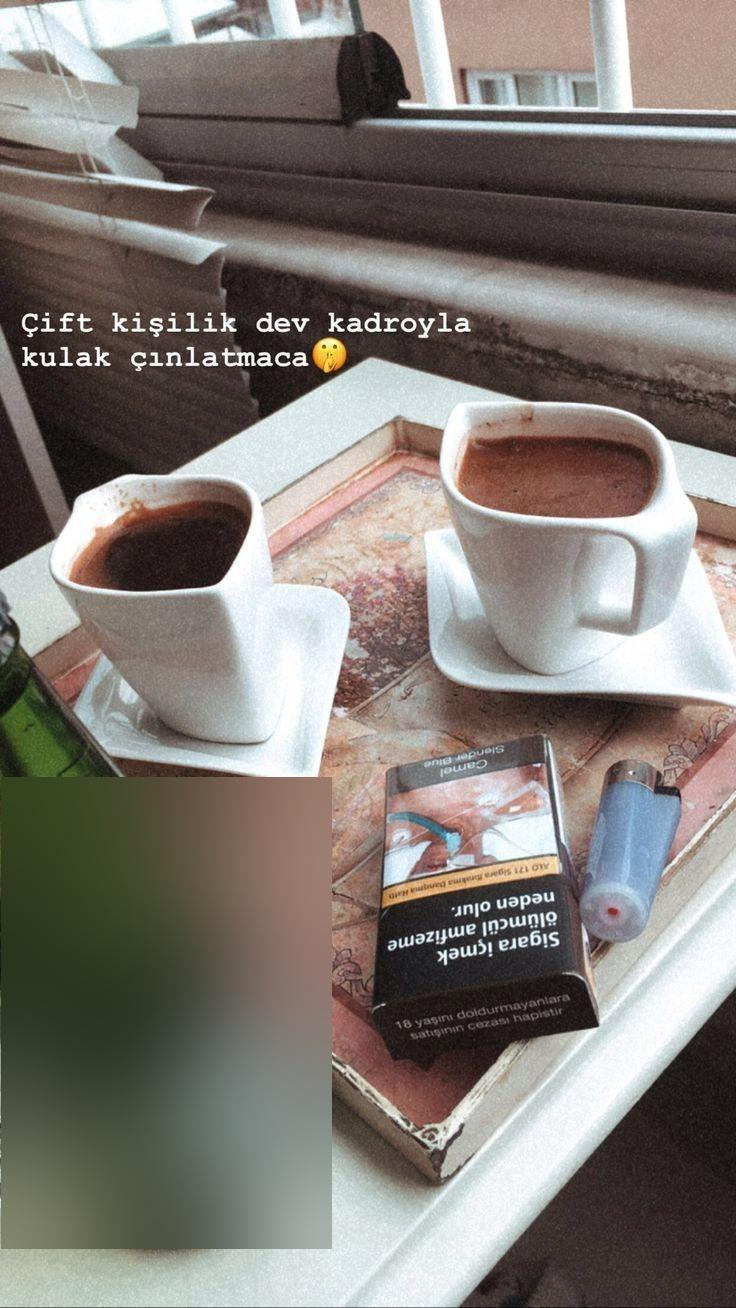cup-handle: (435, 398, 697, 673), (48, 471, 289, 745)
